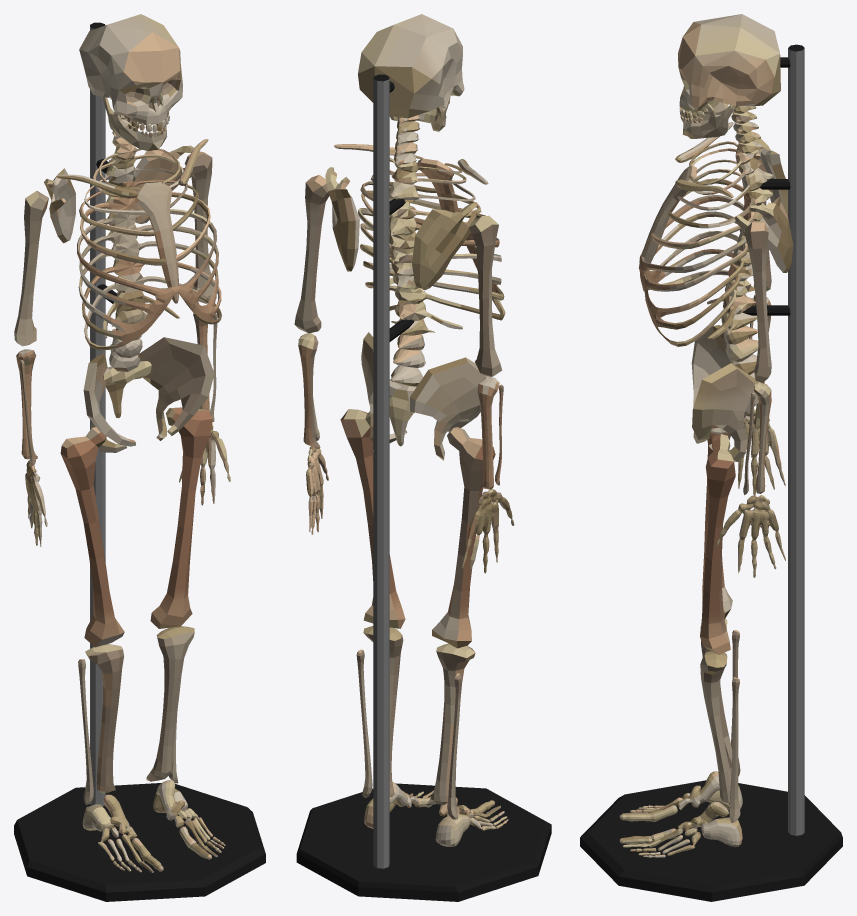
File: Int_ScienceSkeleton01.fbx
3 views of the same model, side by side, from view 1: azimuth 30°, elevation 25°; view 2: azimuth 150°, elevation 25°; view 3: azimuth 270°, elevation 25° (orthographic).
Visible parts, largest first — view 1: Int_ScienceSkeleton01; view 2: Int_ScienceSkeleton01; view 3: Int_ScienceSkeleton01.
Part boxes in pixels (bbox=[...]): Int_ScienceSkeleton01: bbox=[14, 14, 265, 901]; Int_ScienceSkeleton01: bbox=[294, 14, 551, 901]; Int_ScienceSkeleton01: bbox=[580, 14, 842, 901].
Size of what is drawn, in the model's own units: 54.16 by 54.16 by 188.
